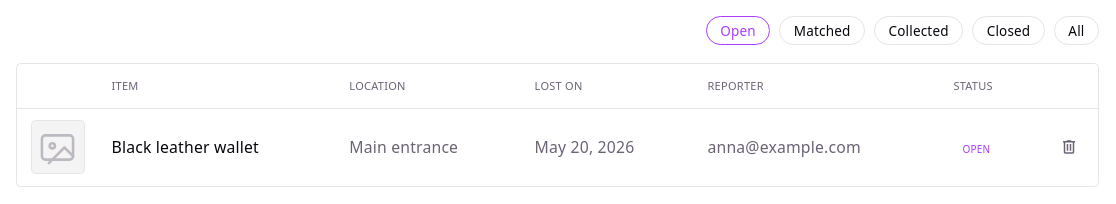
it: <LostReportsOverview /> › switches the listing when a different status filter is selected
Expected: the text "Black leather wallet" is shown, [112,136,259,158]
Click the tab "Matched". click: (822, 30)
box: [779,16,865,45]
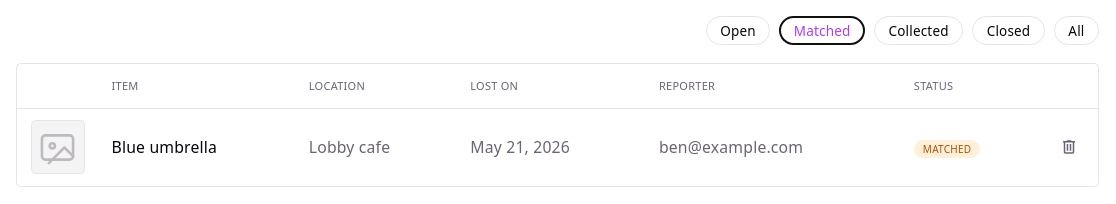
Expected: the text "Blue umbrella" is shown, [112,136,217,158]
Expected: the text "Black leather wallet" is gone
